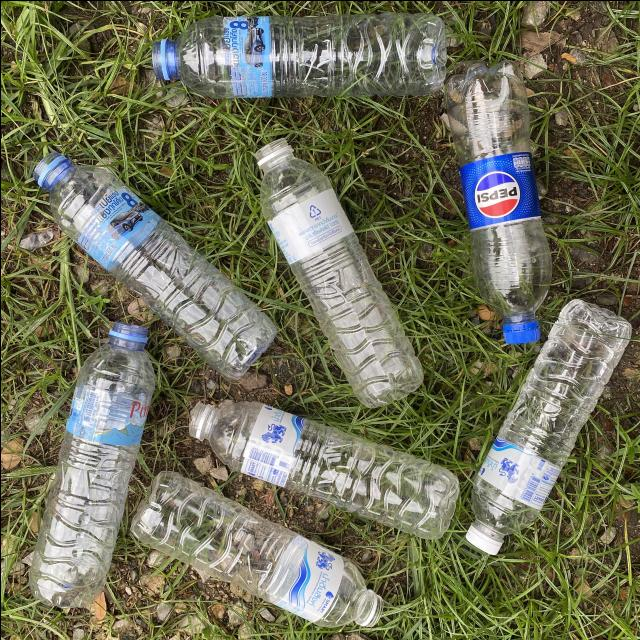plastik: (32, 151, 275, 378), (254, 138, 422, 407), (465, 298, 631, 553), (131, 471, 382, 627), (189, 400, 458, 538), (28, 321, 154, 606), (445, 59, 551, 342), (151, 12, 446, 97)
